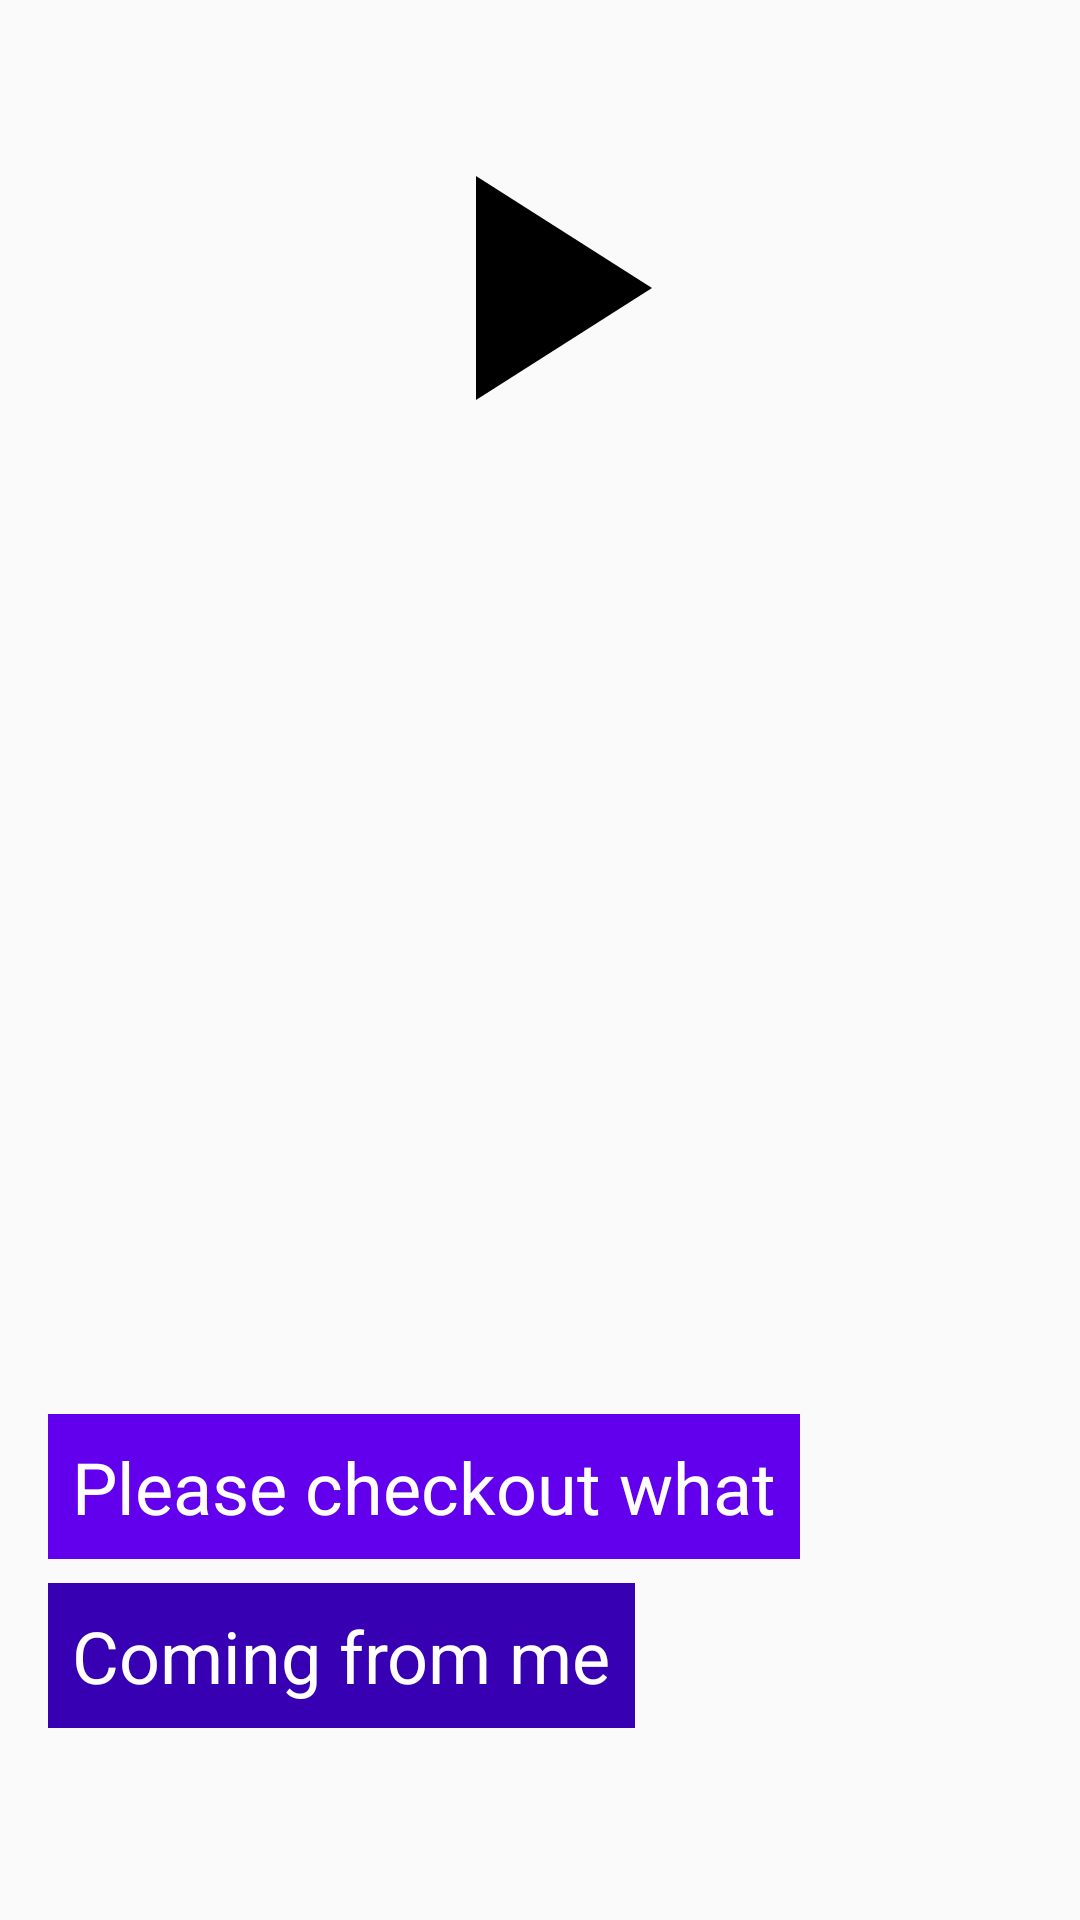

Point at icon controls on the screen. Image size 1080*1920, points as (x,y).
start animation: (564,288)
